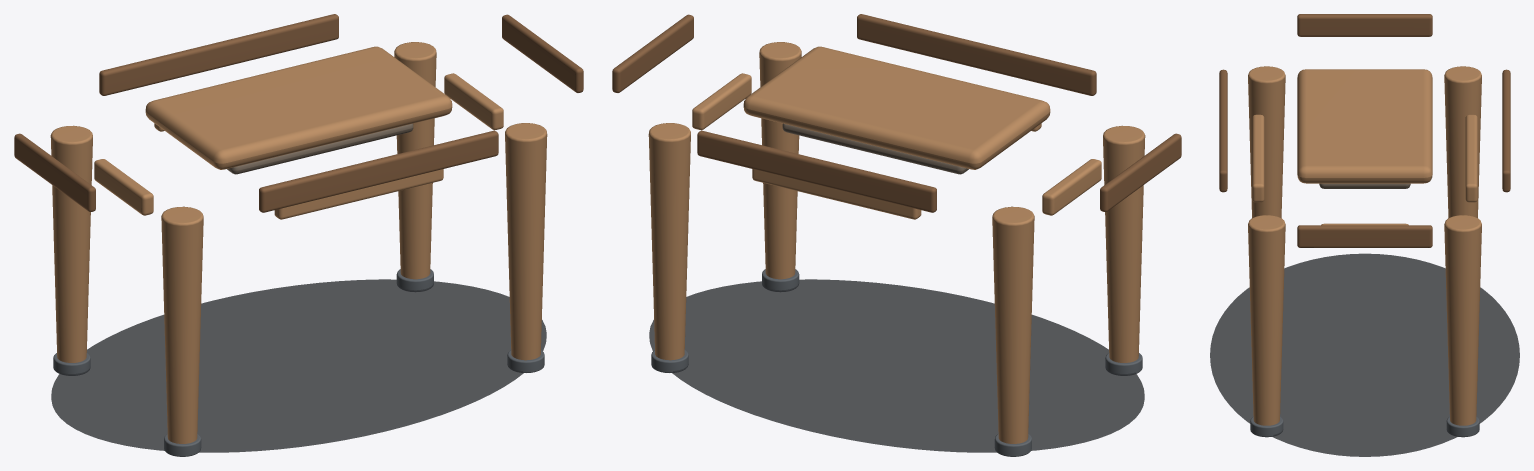
Rendered from table.glb.
3 views of the same model, side by side, from view 1: azimuth 30°, elevation 25°; view 2: azimuth 150°, elevation 25°; view 3: azimuth 270°, elevation 25° (orthographic). The views are drawn at different scales.
Visible parts, largest first — view 1: BASE_BakedSoftContactShadow, PROP_Table_Tabletop_BeveledWalnutSlab, PROP_Table_FrontLeft_TaperedWalnutLeg, PROP_Table_FrontRight_TaperedWalnutLeg, PROP_Table_BackLeft_TaperedWalnutLeg, PROP_Table_FrontDarkEndgrainBand, PROP_Table_BackDarkEndgrainBand, PROP_Table_BackRight_TaperedWalnutLeg, PROP_Table_RightDarkEndgrainBand, PROP_Table_LeftDarkEndgrainBand, PROP_Table_FrontApronRail, PROP_Table_LeftSideApronRail (+2 smaller); view 2: BASE_BakedSoftContactShadow, PROP_Table_Tabletop_BeveledWalnutSlab, PROP_Table_BackLeft_TaperedWalnutLeg, PROP_Table_BackRight_TaperedWalnutLeg, PROP_Table_FrontLeft_TaperedWalnutLeg, PROP_Table_BackDarkEndgrainBand, PROP_Table_FrontDarkEndgrainBand, PROP_Table_FrontRight_TaperedWalnutLeg, PROP_Table_RightDarkEndgrainBand, PROP_Table_LeftDarkEndgrainBand, PROP_Table_BackApronRail, PROP_Table_LeftSideApronRail (+2 smaller); view 3: BASE_BakedSoftContactShadow, PROP_Table_Tabletop_BeveledWalnutSlab, PROP_Table_FrontRight_TaperedWalnutLeg, PROP_Table_BackRight_TaperedWalnutLeg, PROP_Table_FrontLeft_TaperedWalnutLeg, PROP_Table_BackLeft_TaperedWalnutLeg, PROP_Table_LeftDarkEndgrainBand, PROP_Table_RightDarkEndgrainBand, PROP_Table_FrontApronRail, PROP_Table_BackApronRail, PROP_Table_FrontDarkEndgrainBand, PROP_Table_BackDarkEndgrainBand (+3 smaller).
Part boxes in pixels (left/top/right/bottom): BASE_BakedSoftContactShadow: left=51, top=279, right=546, bottom=452; PROP_Table_Tabletop_BeveledWalnutSlab: left=145, top=46, right=452, bottom=169; PROP_Table_FrontLeft_TaperedWalnutLeg: left=161, top=206, right=203, bottom=443; PROP_Table_FrontRight_TaperedWalnutLeg: left=505, top=123, right=547, bottom=360; PROP_Table_BackLeft_TaperedWalnutLeg: left=50, top=125, right=92, bottom=362; PROP_Table_FrontDarkEndgrainBand: left=259, top=130, right=498, bottom=212; PROP_Table_BackDarkEndgrainBand: left=99, top=14, right=338, bottom=95; PROP_Table_BackRight_TaperedWalnutLeg: left=394, top=42, right=436, bottom=279; PROP_Table_RightDarkEndgrainBand: left=502, top=14, right=583, bottom=92; PROP_Table_LeftDarkEndgrainBand: left=14, top=133, right=95, bottom=211; PROP_Table_FrontApronRail: left=274, top=169, right=443, bottom=219; PROP_Table_LeftSideApronRail: left=94, top=159, right=153, bottom=215; BASE_BakedSoftContactShadow: left=649, top=279, right=1144, bottom=452; PROP_Table_Tabletop_BeveledWalnutSlab: left=743, top=46, right=1050, bottom=169; PROP_Table_BackLeft_TaperedWalnutLeg: left=992, top=206, right=1034, bottom=443; PROP_Table_BackRight_TaperedWalnutLeg: left=648, top=123, right=690, bottom=360; PROP_Table_FrontLeft_TaperedWalnutLeg: left=1103, top=125, right=1145, bottom=362; PROP_Table_BackDarkEndgrainBand: left=697, top=130, right=936, bottom=212; PROP_Table_FrontDarkEndgrainBand: left=857, top=14, right=1096, bottom=95; PROP_Table_FrontRight_TaperedWalnutLeg: left=759, top=42, right=801, bottom=279; PROP_Table_RightDarkEndgrainBand: left=612, top=14, right=693, bottom=92; PROP_Table_LeftDarkEndgrainBand: left=1100, top=133, right=1181, bottom=211; PROP_Table_BackApronRail: left=752, top=169, right=921, bottom=219; PROP_Table_LeftSideApronRail: left=1042, top=159, right=1101, bottom=215; BASE_BakedSoftContactShadow: left=1210, top=253, right=1519, bottom=456; PROP_Table_Tabletop_BeveledWalnutSlab: left=1297, top=69, right=1432, bottom=183; PROP_Table_FrontRight_TaperedWalnutLeg: left=1248, top=215, right=1285, bottom=425; PROP_Table_BackRight_TaperedWalnutLeg: left=1444, top=215, right=1481, bottom=425; PROP_Table_FrontLeft_TaperedWalnutLeg: left=1248, top=66, right=1285, bottom=217; PROP_Table_BackLeft_TaperedWalnutLeg: left=1444, top=66, right=1481, bottom=217; PROP_Table_LeftDarkEndgrainBand: left=1297, top=14, right=1432, bottom=36; PROP_Table_RightDarkEndgrainBand: left=1297, top=225, right=1432, bottom=247; PROP_Table_FrontApronRail: left=1252, top=114, right=1264, bottom=202; PROP_Table_BackApronRail: left=1465, top=114, right=1477, bottom=202; PROP_Table_FrontDarkEndgrainBand: left=1219, top=69, right=1227, bottom=192; PROP_Table_BackDarkEndgrainBand: left=1502, top=69, right=1510, bottom=192.
Bounding box in the file's own units: 1.5 × 0.7775 × 0.9152.
